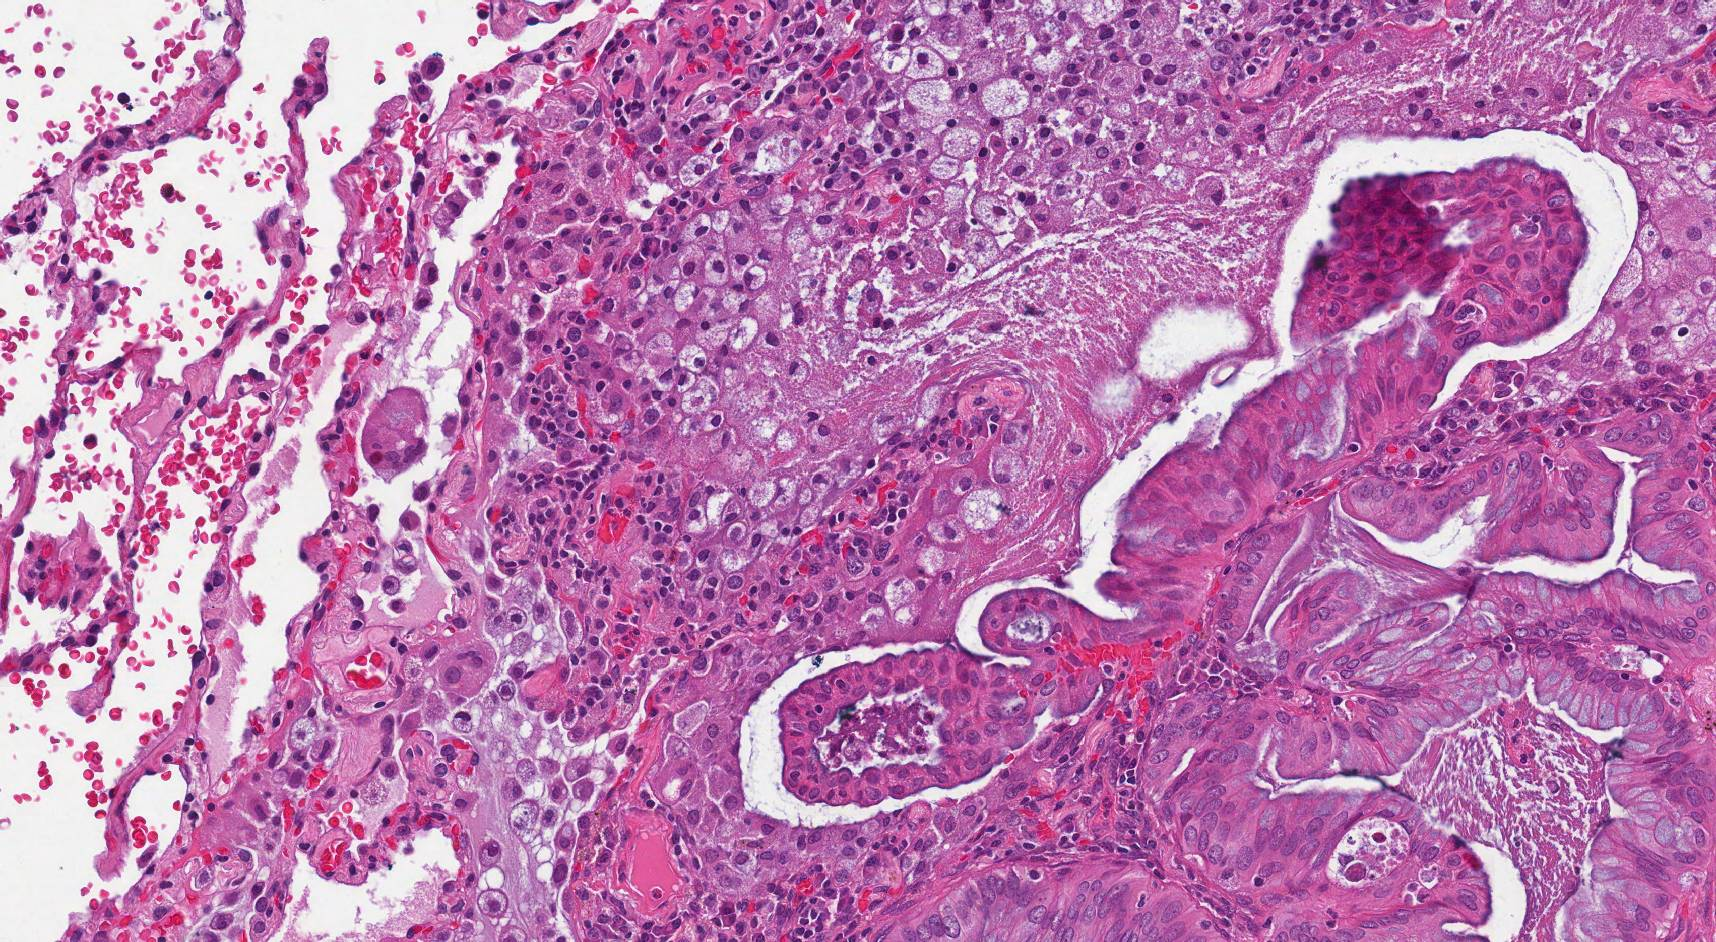stas: (361, 388, 429, 479)
